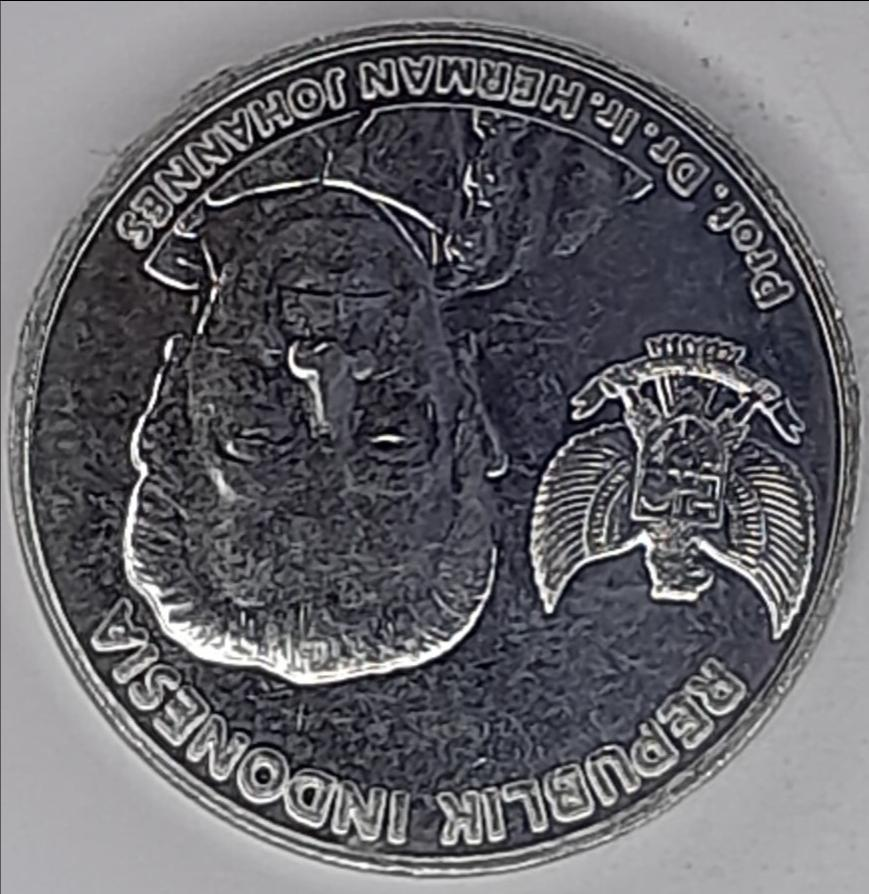coin_100_e2016: (2, 12, 867, 878)
